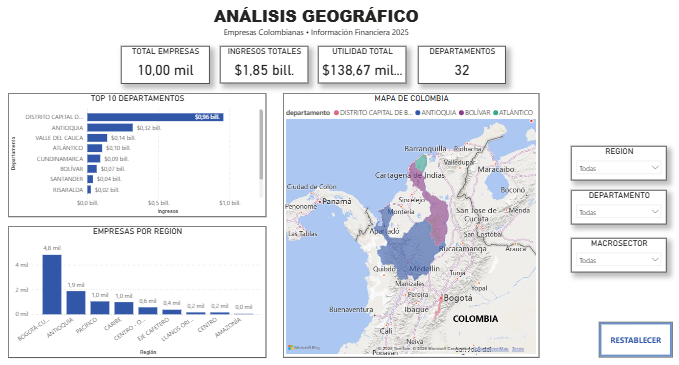

What the dashboard file says about the page in this screenshot:
{"tool":"powerbi","page":{"name":"Análisis geográfico","canvas":[1400,750],"ordinal":1},"visuals":[{"type":"card","title":"TOTAL EMPRESAS","fields":{"Values":["CountNonNull(vw_finanzas_empresa.razon_social)"]},"box":[250.7,100.9,180.7,76.5],"z":0},{"type":"card","title":"INGRESOS TOTALES","fields":{"Values":["Sum(vw_finanzas_empresa.ingresos_2025)"]},"box":[453.7,100.7,179.9,76.2],"z":1000},{"type":"card","title":"UTILIDAD TOTAL","fields":{"Values":["Sum(vw_finanzas_empresa.utilidad_2025)"]},"box":[653.4,100.7,179.9,76.2],"z":2000},{"type":"clusteredBarChart","title":"TOP 10  DEPARTAMENTOS","fields":{"Y":["Sum(vw_finanzas_empresa.ingresos_2025)"],"Category":["vw_finanzas_empresa.departamento"]},"box":[19.5,196.1,526.8,253.2],"z":7000},{"type":"clusteredColumnChart","title":"EMPRESAS POR REGIÓN","fields":{"Category":["vw_finanzas_empresa.region"],"Y":["CountNonNull(vw_finanzas_empresa.razon_social)"]},"box":[19.5,466.8,526.8,269.3],"z":8000},{"type":"filledMap","title":"MAPA DE COLOMBIA","fields":{"Series":["vw_finanzas_empresa.departamento"],"Category":["vw_finanzas_empresa.departamento"]},"box":[580.8,195.1,522.9,539.6],"z":9000},{"type":"slicer","title":"REGIÓN","fields":{"Values":["vw_finanzas_empresa.region"]},"box":[1169.2,304.9,195.1,70.1],"z":10000},{"type":"slicer","title":"DEPARTAMENTO","fields":{"Values":["vw_finanzas_empresa.departamento"]},"box":[1169.2,394.8,195.1,70.1],"z":11000},{"type":"slicer","title":"MACROSECTOR","fields":{"Values":["vw_finanzas_empresa.macrosector"]},"box":[1169.2,490.9,195.1,70.1],"z":12000},{"type":"textbox","box":[0,10.7,1298.8,76.2],"z":13000},{"type":"actionButton","title":"LIMPIAR FILTROS","box":[1225.8,664.2,149.8,71.6],"z":14000},{"type":"card","title":"DEPARTAMENTOS","fields":{"Values":["Count(vw_finanzas_empresa.departamento)"]},"box":[856.3,100.9,179.1,76.5],"z":14001}]}

Visuals, with their boxes in screenshot pixels (x1, y1, x2, y2), scaled from the page's 1400x750 canvas onto the 679x365 screenshot:
"TOTAL EMPRESAS" card: (122,49,209,86)
"INGRESOS TOTALES" card: (220,49,307,86)
"UTILIDAD TOTAL" card: (317,49,404,86)
"TOP 10  DEPARTAMENTOS" clusteredBarChart: (9,95,265,219)
"EMPRESAS POR REGIÓN" clusteredColumnChart: (9,227,265,358)
"MAPA DE COLOMBIA" filledMap: (282,95,535,358)
"REGIÓN" slicer: (567,148,662,182)
"DEPARTAMENTO" slicer: (567,192,662,226)
"MACROSECTOR" slicer: (567,239,662,273)
textbox: (0,5,630,42)
"LIMPIAR FILTROS" actionButton: (595,323,667,358)
"DEPARTAMENTOS" card: (415,49,502,86)
